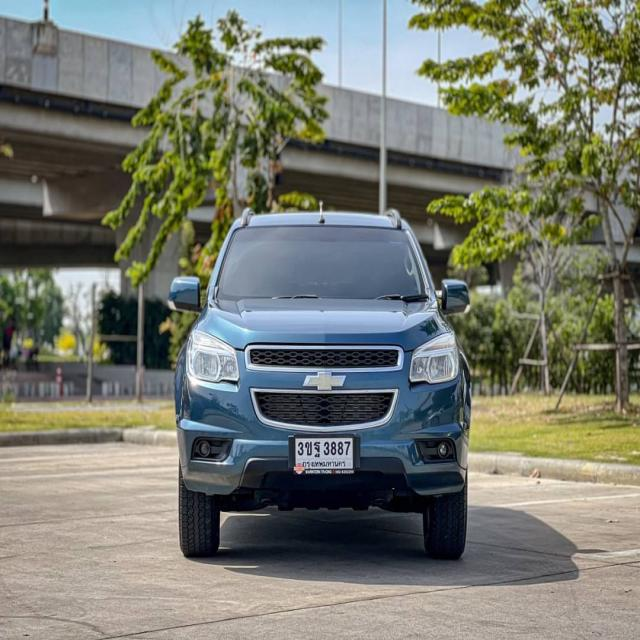license_plate: (287, 434, 362, 476)
